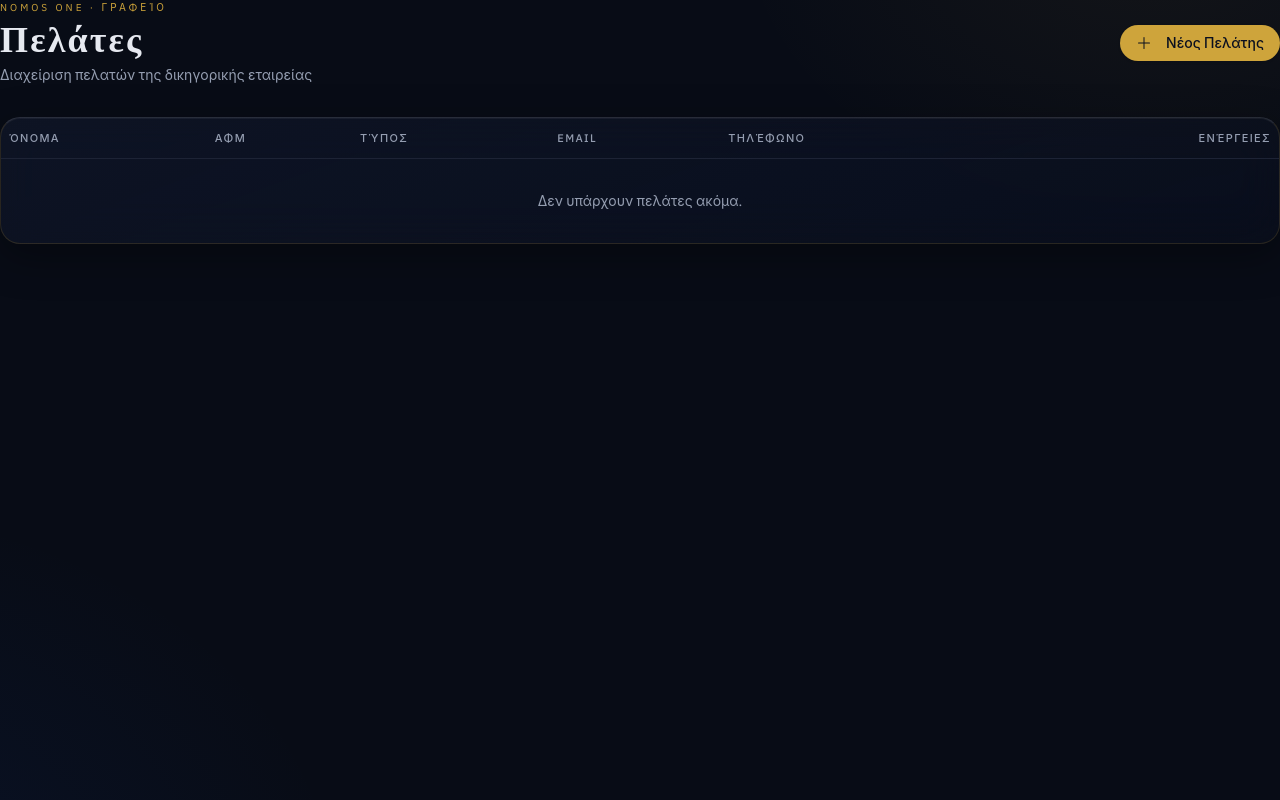
Test: Καρτέλα πελάτη › δείχνει στον δικηγόρο γιατί απορρίφθηκε το ΑΦΜ
The image size is (1280, 800).
Click the button "Νέος Πελάτης": point(1200, 42) [1120,24,1279,60]
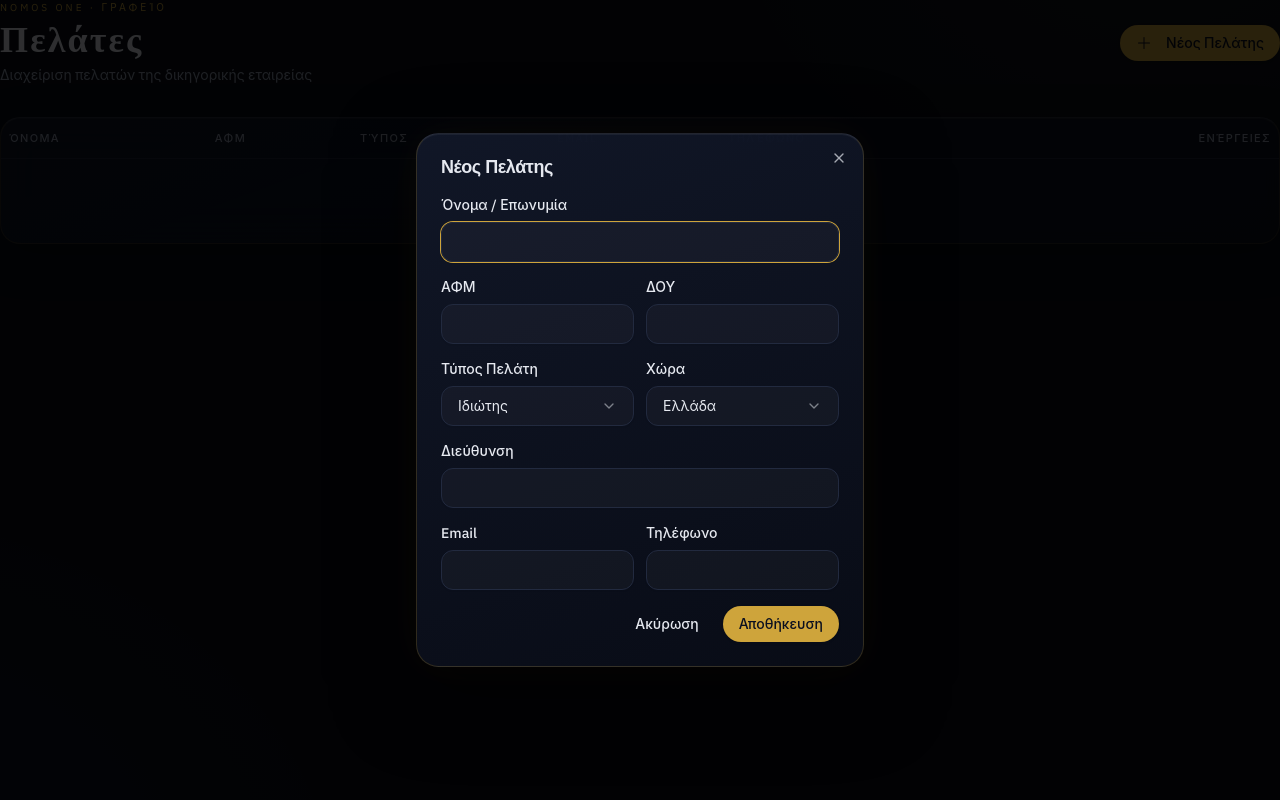
In the field with test id "client-name-input": point(640, 242) [441,222,839,262], type "ΑΛΦΑ ΑΕ"
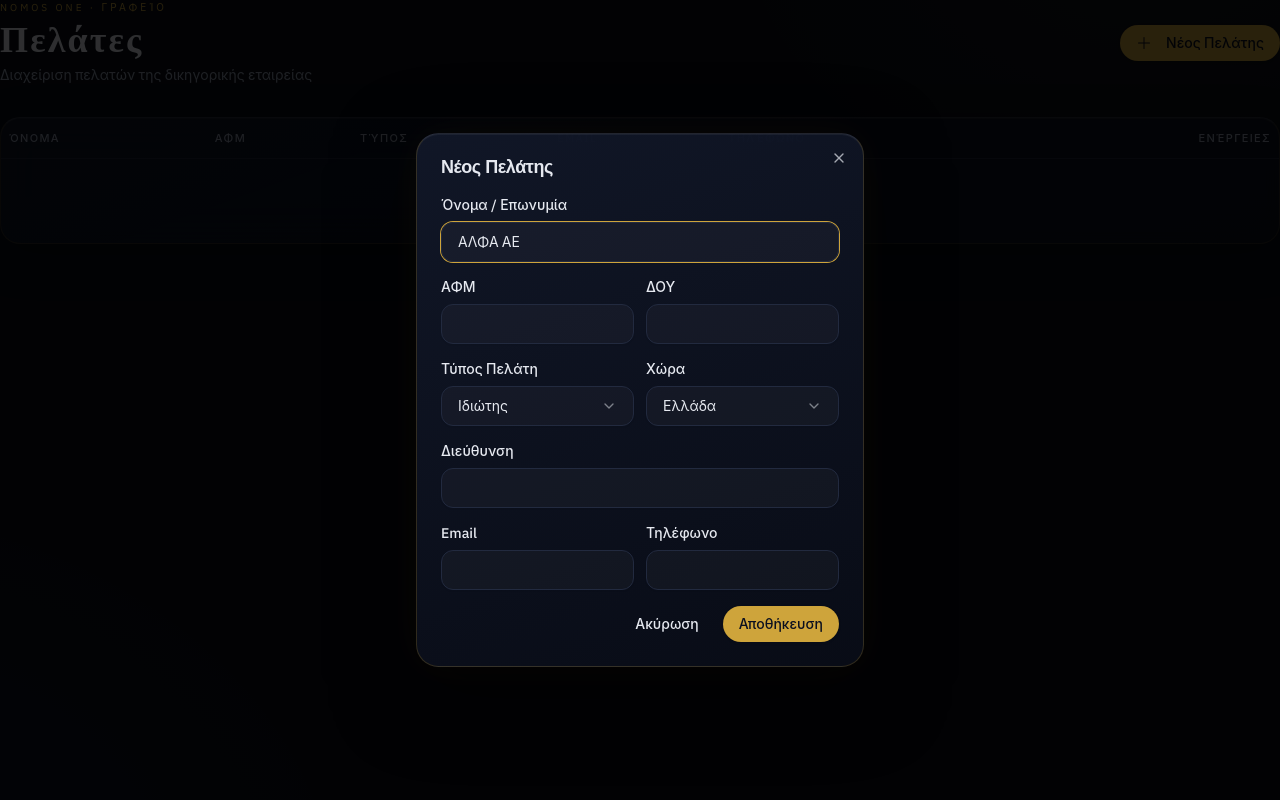
Click the button "Αποθήκευση": point(781, 624) [723,606,839,642]
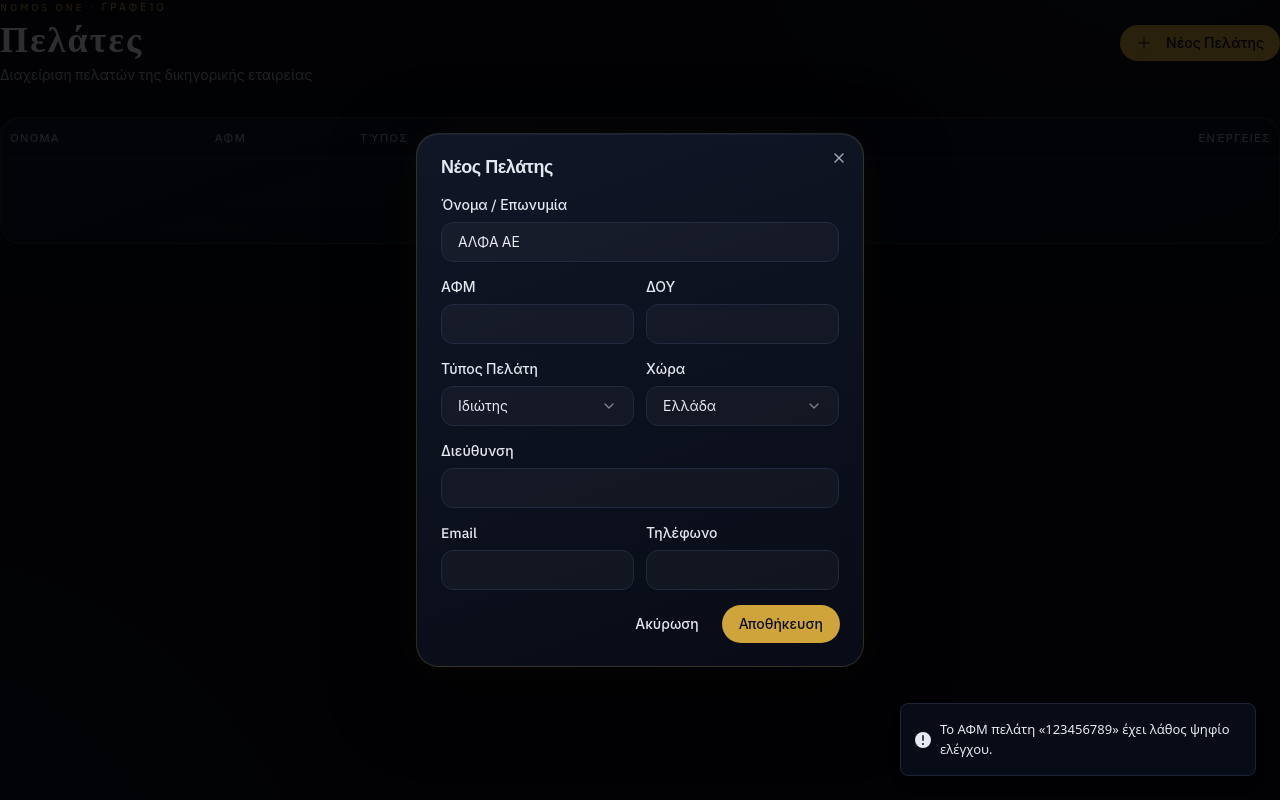
Result: the text "Το ΑΦΜ πελάτη «123456789» έχει λάθος ψηφίο ελέγχου." is shown at [940,720,1239,759]
